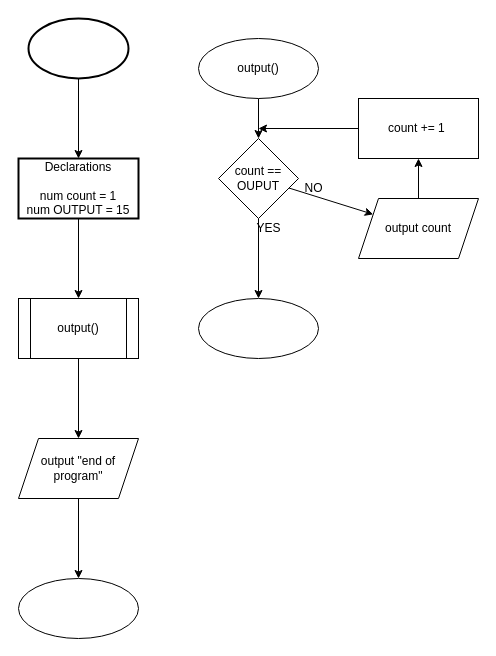
Some shapes in this 496 by 656 pixel diagram are drawn without their labels. The box of each missing label's shape, as (x1, y1, x2, y2) in pixels:
return: (198, 298, 318, 358)
start: (27, 17, 129, 79)
stop: (18, 578, 138, 638)
